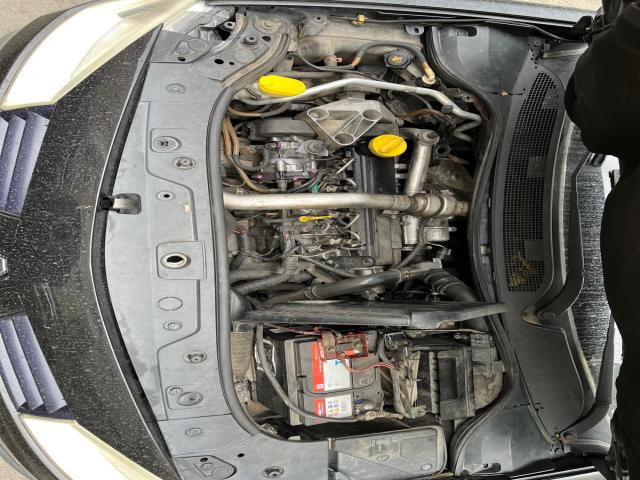accumulator: (263, 328, 383, 418), (255, 360, 325, 426)
alternator: (220, 140, 233, 168), (238, 138, 252, 149)
antifreeze_tank: (295, 19, 423, 66), (360, 45, 413, 68)
fuse_box: (328, 426, 447, 480)
high_pressure_pump: (260, 135, 317, 188)
